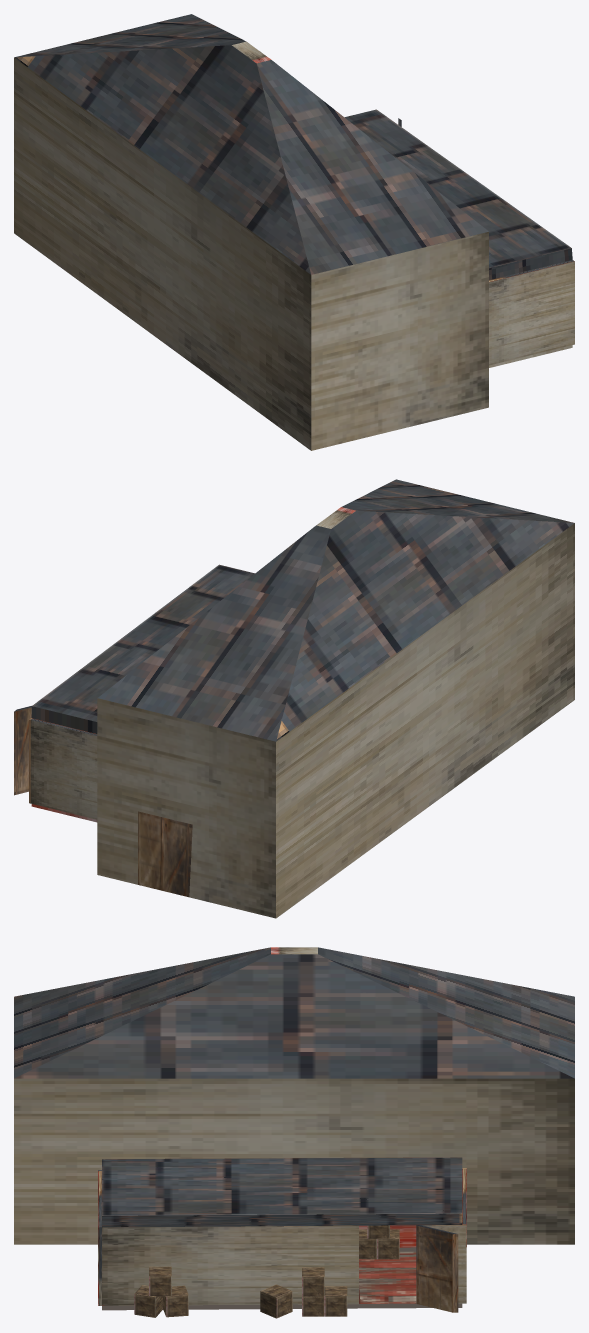
Rendered from CultBasement.fbx.
The picture shows the model from 3 angles, top to bottom: view 1: azimuth 30°, elevation 25°; view 2: azimuth 150°, elevation 25°; view 3: azimuth 270°, elevation 25°; orthographic projection. The views are drawn at different scales.
Parts seen in each view (by area): view 1: Cube.017, Cube.003; view 2: Cube.017, Cube.003; view 3: Cube.017, Cube.003, Cube.012, Cube.004, Cube.013, Cube.015, Cube.002, Cube.014, Cube.007, Cube.001, Cube.005.
Boxes of the visible parts, x1,y1,x2,y2 form: Cube.017: (14, 14, 488, 450); Cube.003: (345, 109, 574, 367); Cube.017: (97, 479, 574, 918); Cube.003: (14, 564, 254, 822); Cube.017: (14, 947, 574, 1244); Cube.003: (98, 1157, 466, 1312); Cube.012: (260, 1284, 292, 1318); Cube.004: (324, 1286, 347, 1316); Cube.013: (134, 1285, 163, 1317); Cube.015: (149, 1266, 171, 1296); Cube.002: (302, 1267, 324, 1297); Cube.014: (163, 1285, 188, 1317); Cube.007: (377, 1229, 399, 1259); Cube.001: (302, 1296, 324, 1316); Cube.005: (359, 1229, 376, 1259).
Size of the model in its own units: 3214 by 2505 by 4926.
